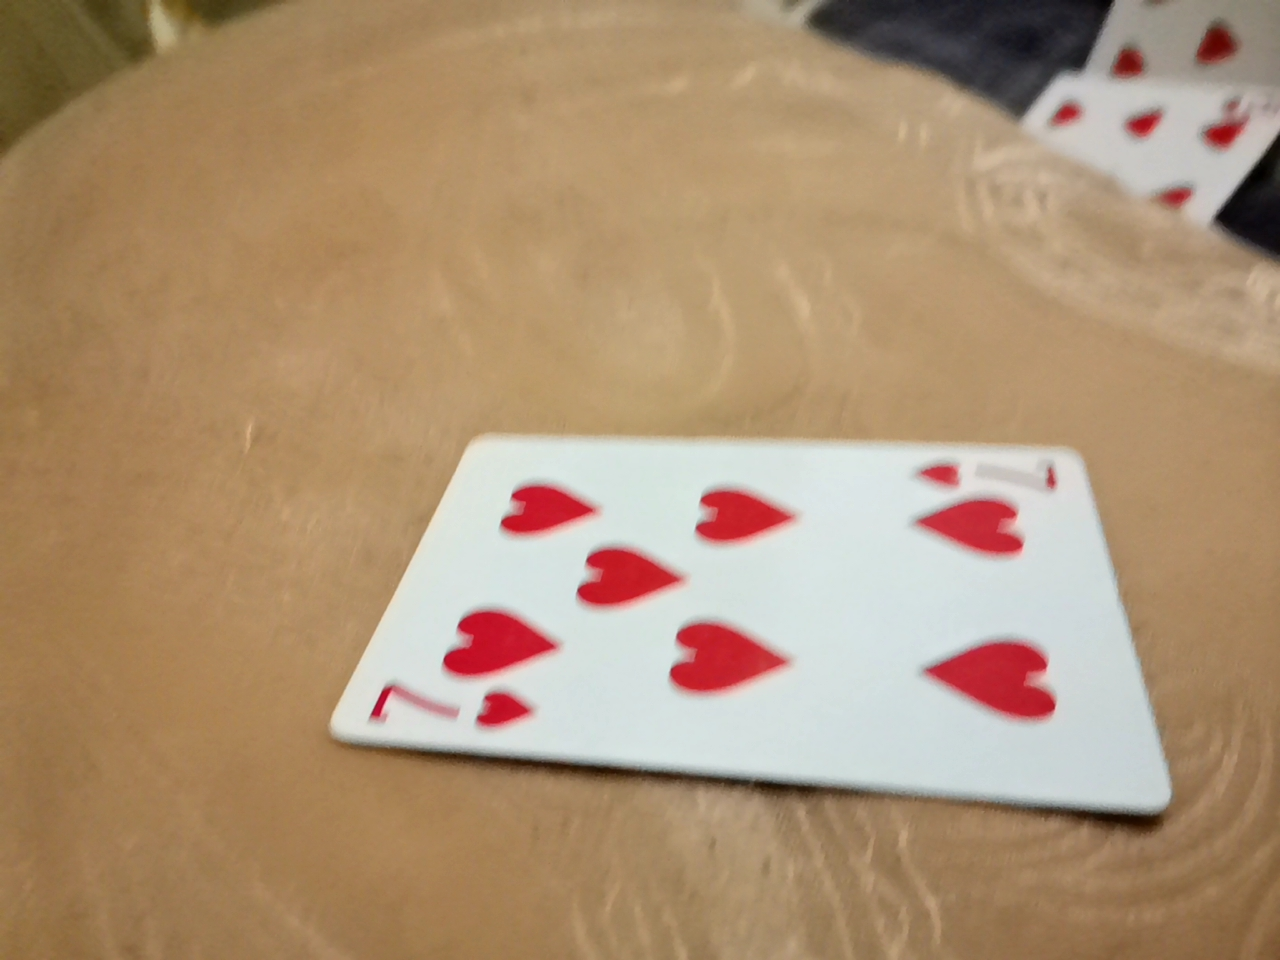hx 7: (270, 497, 1150, 894)
